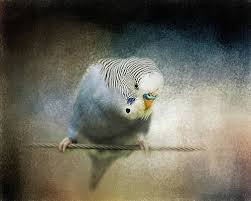budgie: (58, 56, 168, 157)
